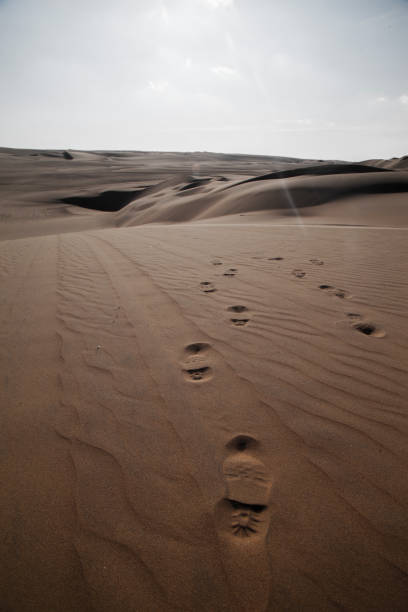human_footprint: (216, 435, 271, 540), (182, 342, 211, 380), (347, 312, 385, 337), (319, 284, 351, 298), (227, 305, 248, 325), (200, 281, 215, 292), (223, 268, 237, 276), (292, 269, 305, 277)
